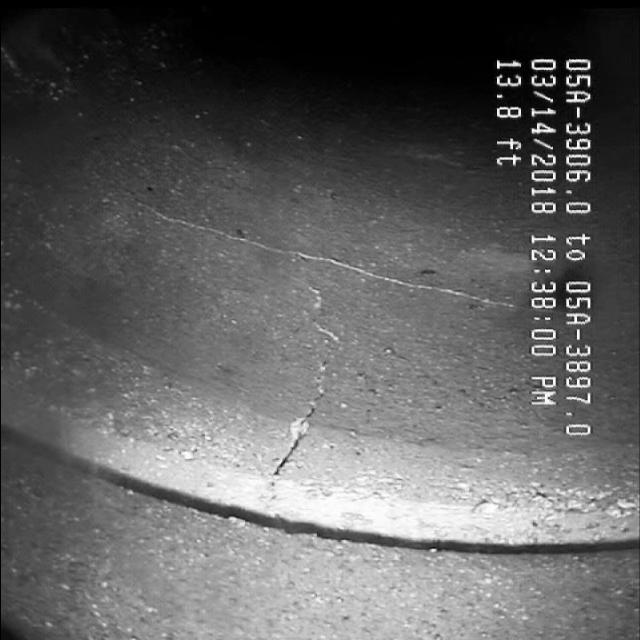Crack: (177, 214, 487, 298), (247, 286, 355, 476)
